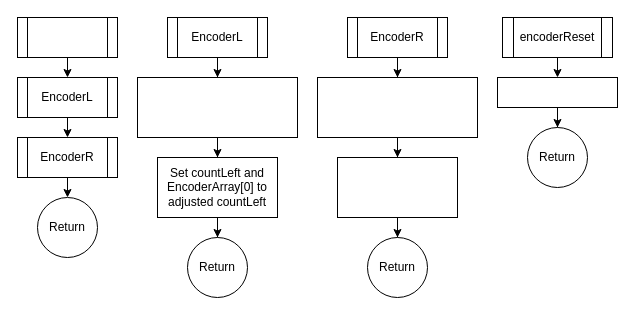
Image size: 635x315. Some labels were removed from this diagram. The shapes that lost their labels are listed below. From the top down, each one's centre as x and y in pixels, then its label:
At pixel 67 37: "Encoders".
At pixel 217 107: "Ser countsLeft to the absolute value of encoders.getCountsLeft".
At pixel 397 107: "Ser countsRight to the absolute value of encoders.getCountsRight".
At pixel 557 92: "Reset both encoders".
At pixel 397 187: "Set countRight and EncoderArray[1] to adjusted countRight".
